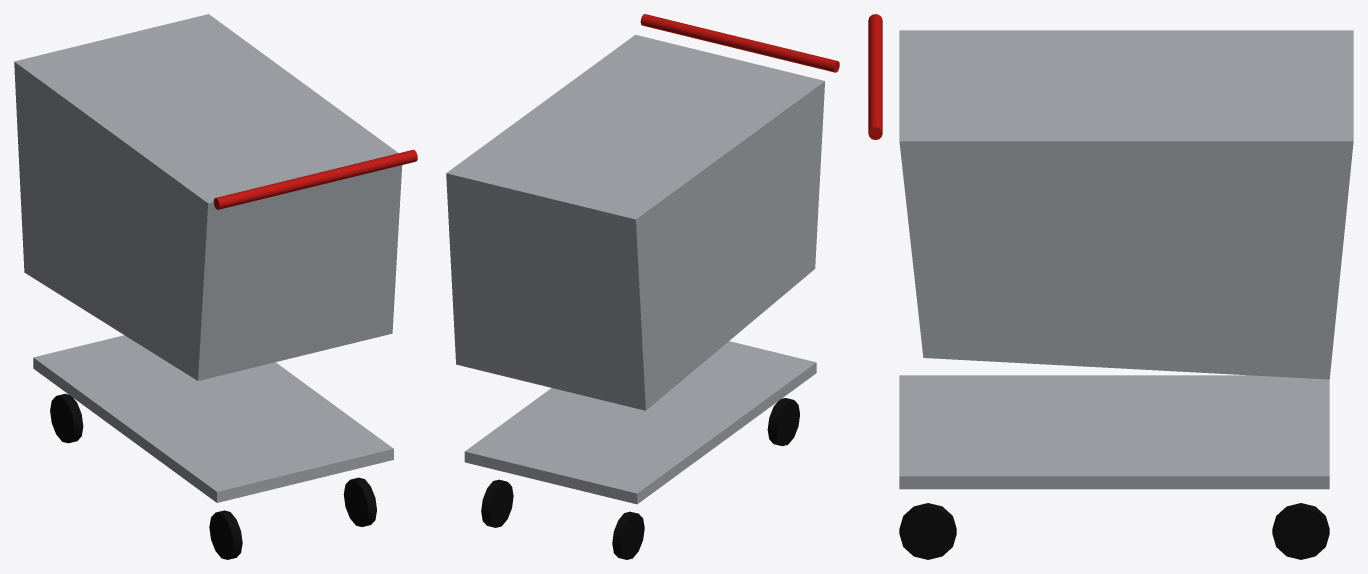
The model's file is retail.shop.trolley.glb.
3 renders of one model, left to right at view 1: azimuth 30°, elevation 25°; view 2: azimuth 150°, elevation 25°; view 3: azimuth 270°, elevation 25°, orthographic. The views are drawn at different scales.
Parts seen in each view (by area): view 1: main__steel_galvanised, main__rubber, main__plastic_red; view 2: main__steel_galvanised, main__rubber, main__plastic_red; view 3: main__steel_galvanised, main__rubber, main__plastic_red.
Part boxes in pixels (box(x1,y1,x2,y2)): main__steel_galvanised: box(14, 14, 402, 502); main__rubber: box(50, 394, 376, 559); main__plastic_red: box(213, 149, 417, 209); main__steel_galvanised: box(446, 34, 824, 504); main__rubber: box(481, 398, 799, 559); main__plastic_red: box(640, 14, 839, 72); main__steel_galvanised: box(899, 30, 1353, 489); main__rubber: box(899, 503, 1329, 559); main__plastic_red: box(868, 14, 882, 139).
Bounding box in the file's own units: 0.56 × 1.03 × 1.01.
